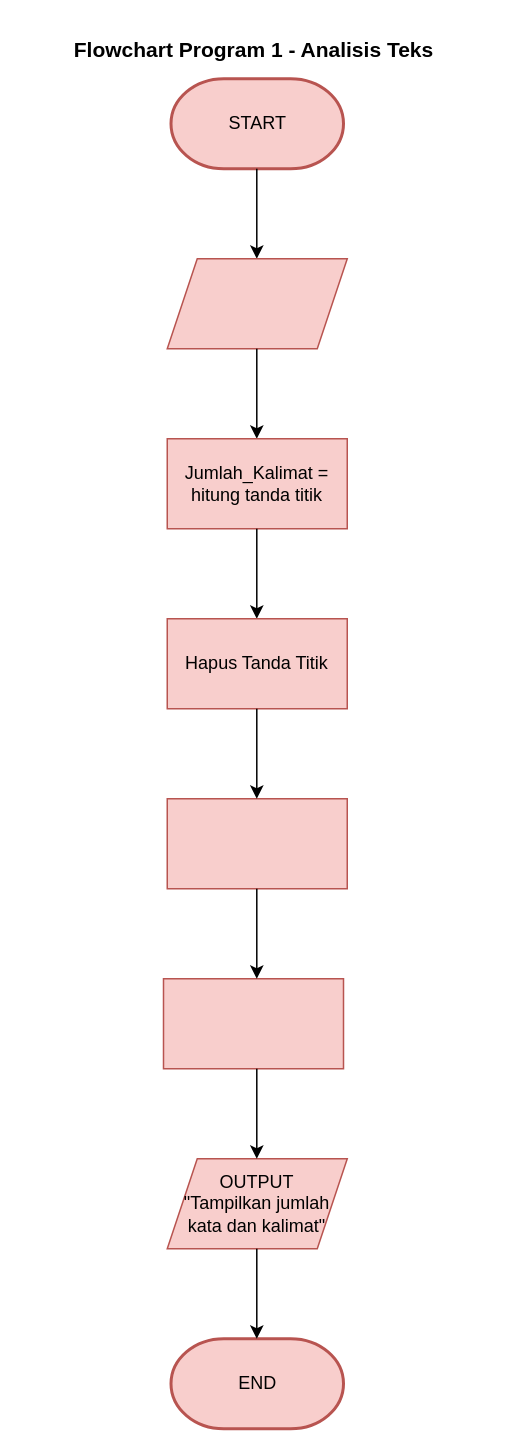
Some shapes in this 507 by 1455 pixel diagram are drawn without their labels. Each missing label, with the centre of its shape:
Hitung Jumlah Kata: [253,1023]
INPUT Teks: [256,303]
Pisahkan Teks Menjadi Kata-Kata: [256,843]
